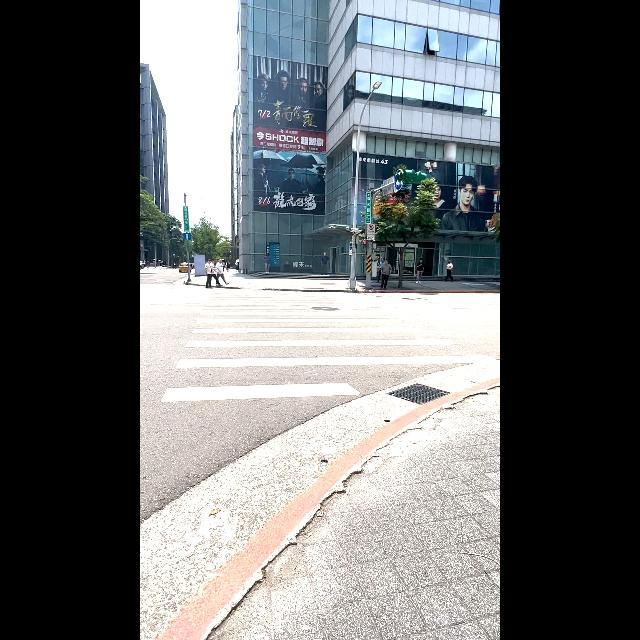sidewalk: (140, 286, 500, 636)
